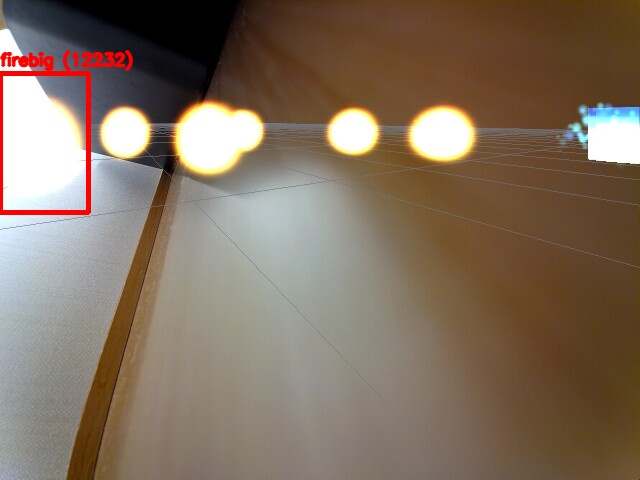firebig: (0, 73, 88, 212)
